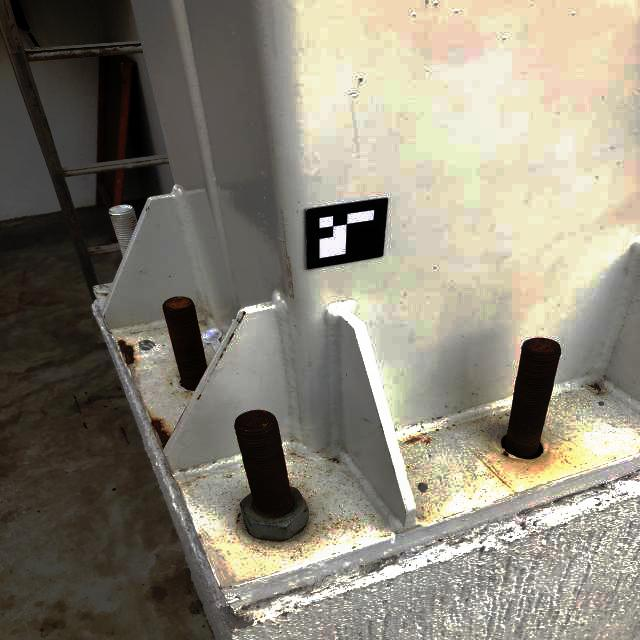Corrosion: (501, 338, 561, 460), (234, 410, 294, 518), (163, 297, 207, 391), (150, 415, 171, 450), (118, 340, 135, 366), (406, 436, 430, 444), (237, 309, 248, 324), (227, 333, 235, 346), (236, 512, 243, 522), (197, 394, 202, 400), (220, 353, 224, 360), (224, 348, 227, 351)
